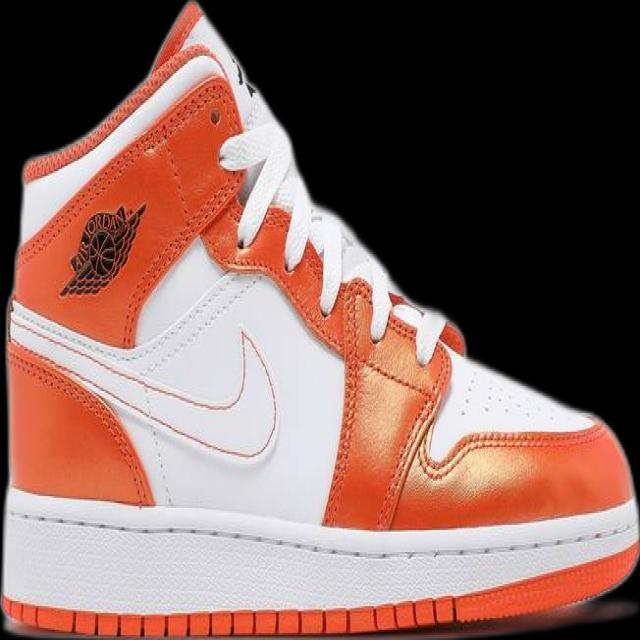J1_InsoleChar: (0, 1, 638, 639)
J1_ShoeLogo: (58, 200, 147, 298)
J1_StitchPattern: (1, 493, 637, 634), (215, 121, 461, 367), (5, 282, 281, 463), (3, 504, 637, 564), (320, 277, 453, 529), (19, 40, 224, 184), (4, 334, 155, 506), (1, 593, 461, 638), (373, 390, 442, 532), (227, 51, 260, 100)
